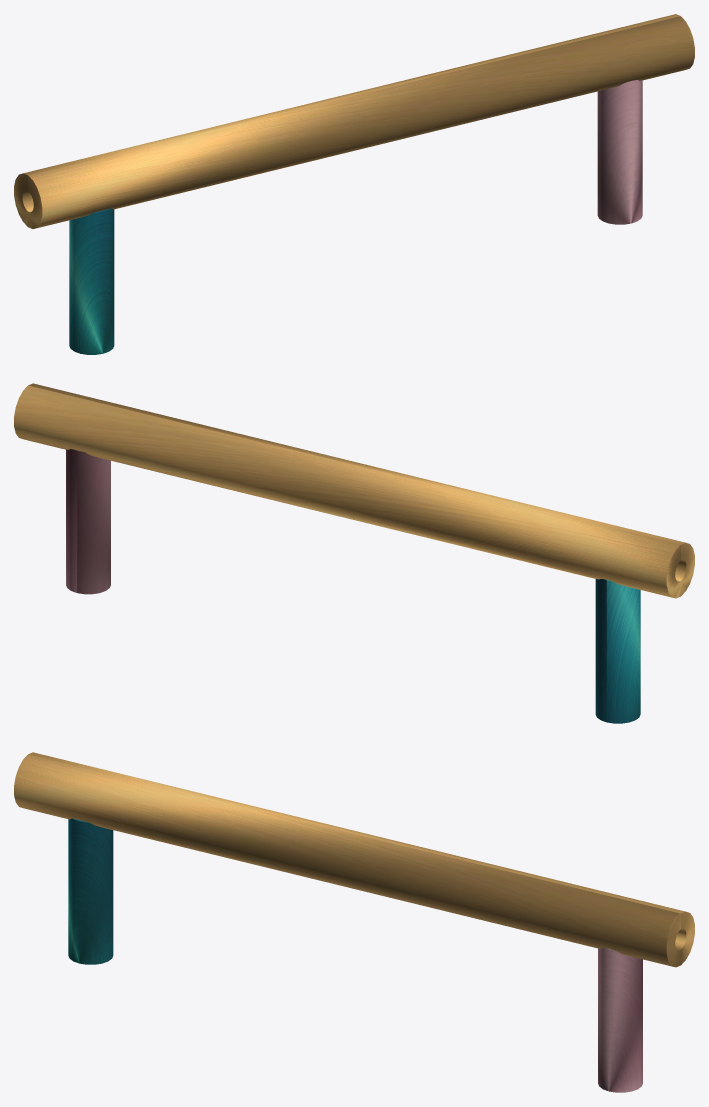
File: suybacentro.obj
The picture shows the model from 3 angles, top to bottom: view 1: azimuth 30°, elevation 25°; view 2: azimuth 150°, elevation 25°; view 3: azimuth 330°, elevation 25°; orthographic projection.
Visible parts, largest first — view 1: suyba001; view 2: suyba001; view 3: suyba001.
Boxes of the visible parts, box(x1,y1,x2,y2) form: suyba001: box(14, 14, 694, 354); suyba001: box(14, 383, 694, 723); suyba001: box(14, 752, 694, 1092).
Size of the model in its own units: 100 by 27.13 by 7.48.
3 materials, 3 textured.
